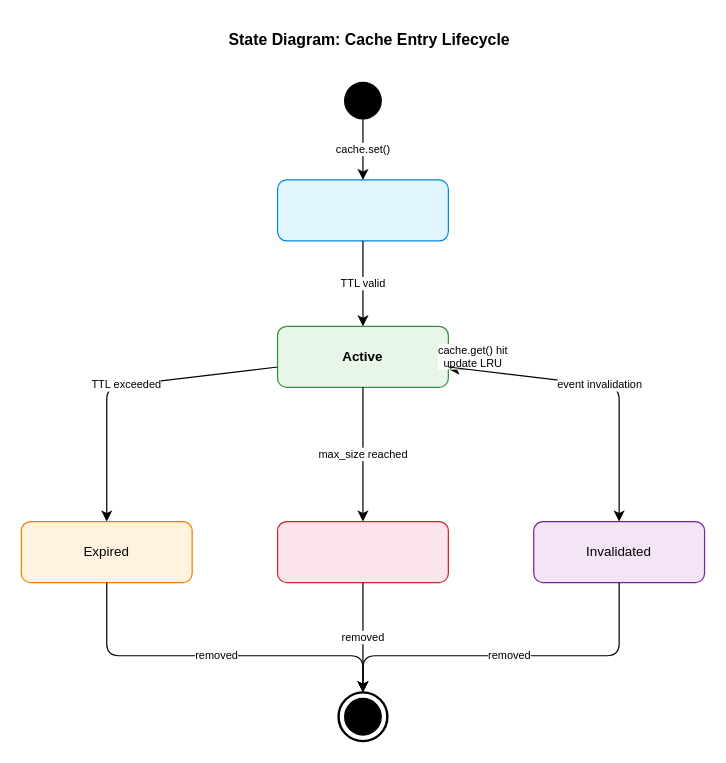
This 726x763 diagram has some shape labels left out. The shapes that lost their labels are listed below. From the top down, each one's centre as x and y in pixels, then its label:
the point at 362,210: Created
the point at 362,551: Evicted (LRU)
